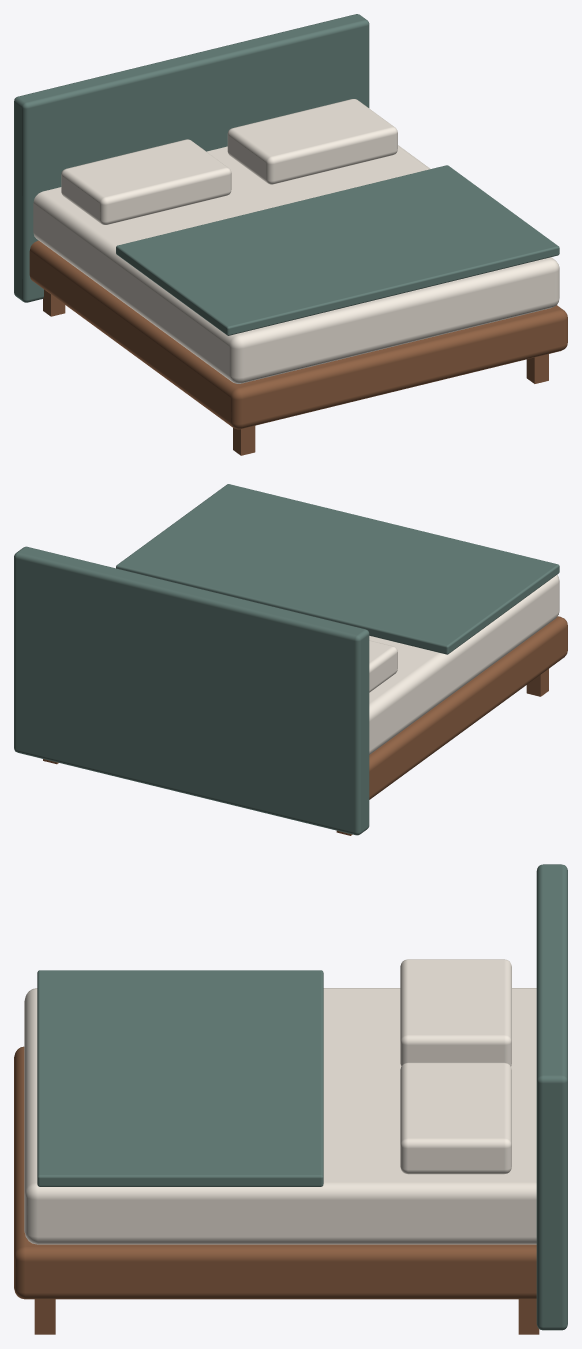
The model's file is bed.glb.
3 views of the same model, one above another, from view 1: azimuth 30°, elevation 25°; view 2: azimuth 150°, elevation 25°; view 3: azimuth 270°, elevation 25° (orthographic). The views are drawn at different scales.
Bounding box in the file's own units: 1.96 × 1.14 × 2.13.
